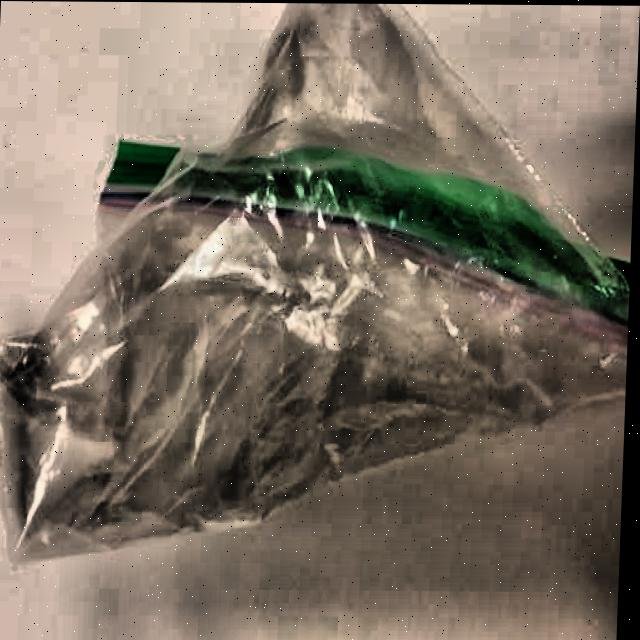plastic: (0, 4, 640, 580)
